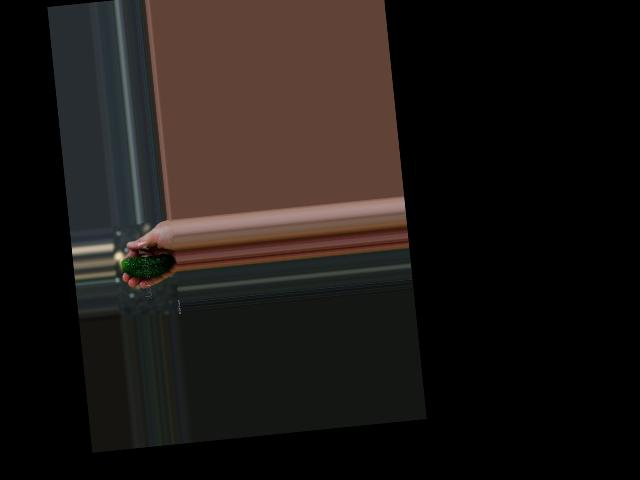cucumber: (121, 253, 174, 280)
